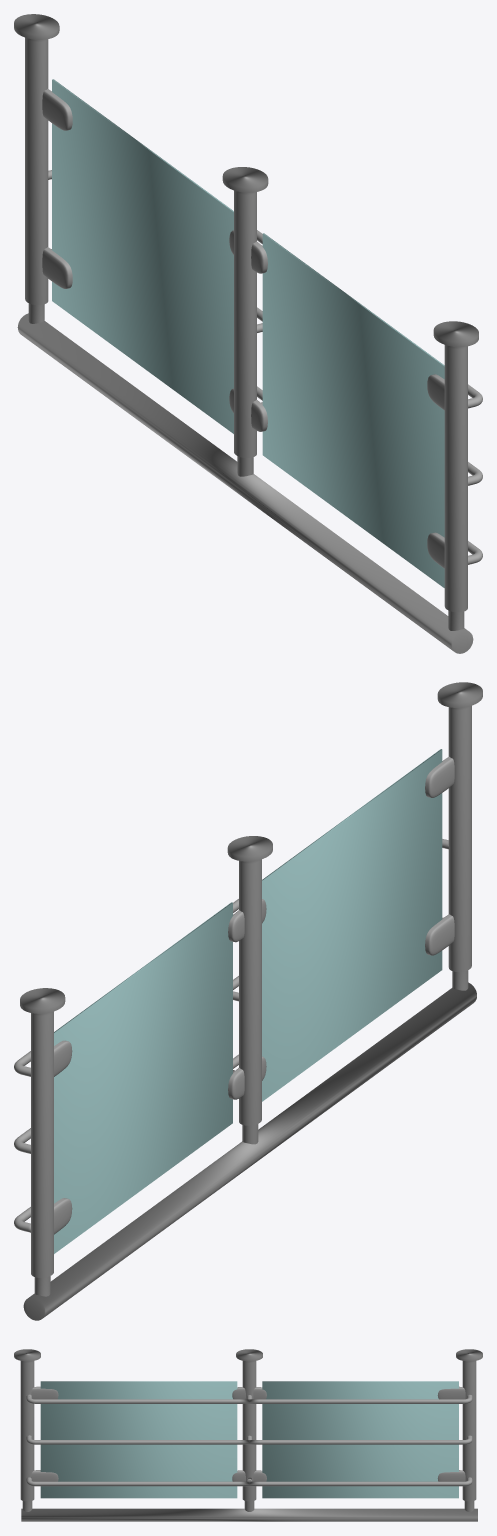
File: railing.fbx
The picture shows the model from 3 angles, top to bottom: view 1: azimuth 30°, elevation 25°; view 2: azimuth 150°, elevation 25°; view 3: azimuth 270°, elevation 25°; orthographic projection. The views are drawn at different scales.
Visible parts, largest first — view 1: Cylinder.003_0; view 2: Cylinder.003_0; view 3: Cylinder.003_0.
Boxes of the visible parts, x1,y1,x2,y2 form: Cylinder.003_0: (14, 14, 482, 653); Cylinder.003_0: (14, 682, 482, 1320); Cylinder.003_0: (14, 1349, 482, 1521).
Size of the model in its own units: 3.89 by 23.32 by 59.28.
Materials: 2 (1 with a texture image).
